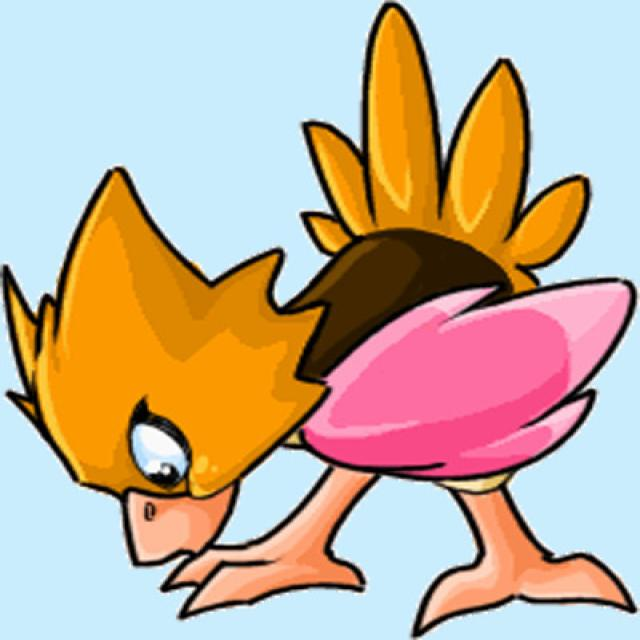Spearow: (34, 77, 616, 611)
